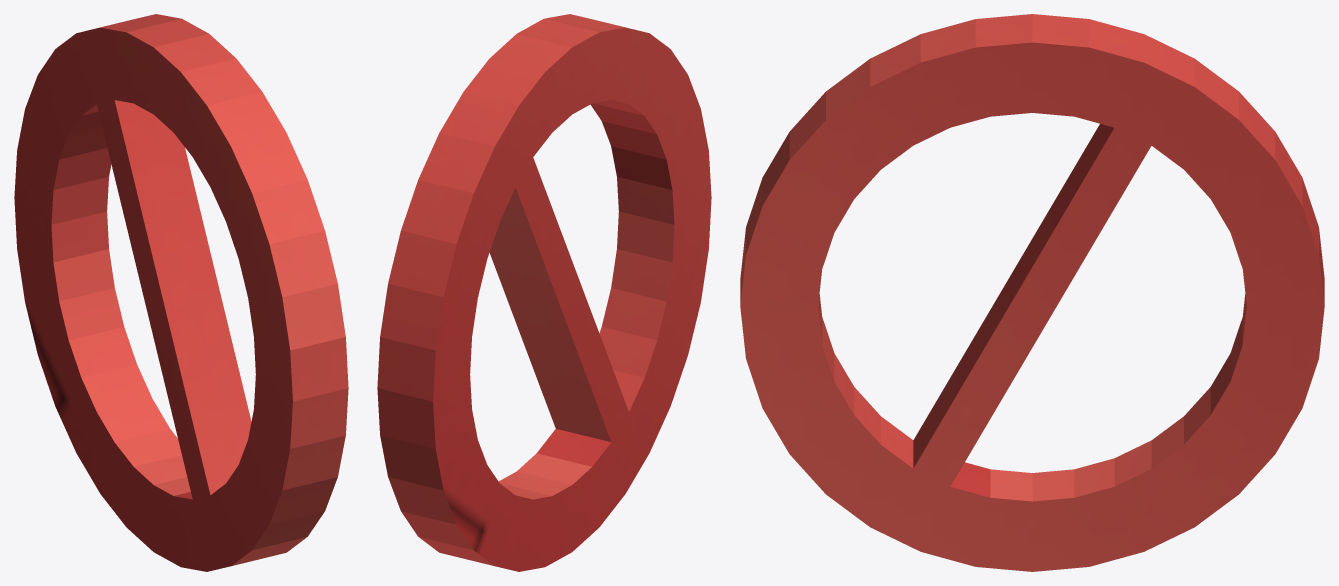
The model's file is Blocked.glb.
3 renders of one model, left to right at view 1: azimuth 30°, elevation 25°; view 2: azimuth 150°, elevation 25°; view 3: azimuth 270°, elevation 25°, orthographic. The views are drawn at different scales.
Parts seen in each view (by area): view 1: Circle; view 2: Circle; view 3: Circle.
Boxes of the visible parts, x1,y1,x2,y2 form: Circle: [14, 14, 348, 571]; Circle: [377, 14, 711, 571]; Circle: [740, 14, 1324, 571].
Bounding box in the file's own units: 0.2307 × 2 × 2.
Materials: 1 (1 with a texture image).
